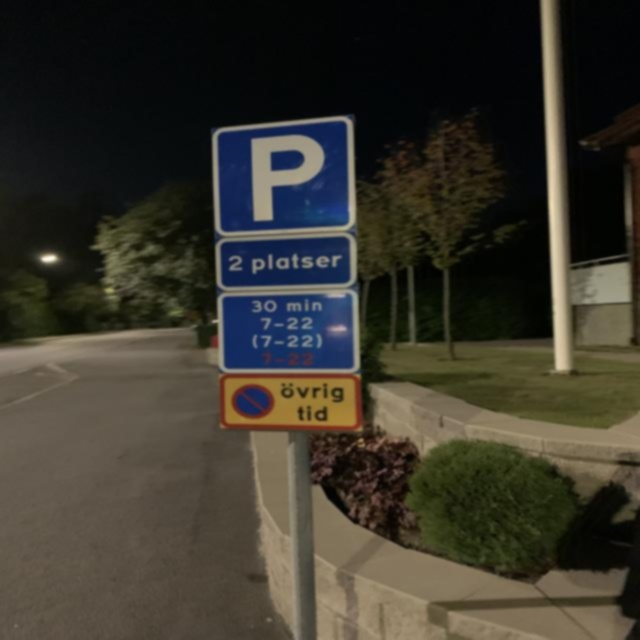P-skylt: (215, 114, 355, 239)
